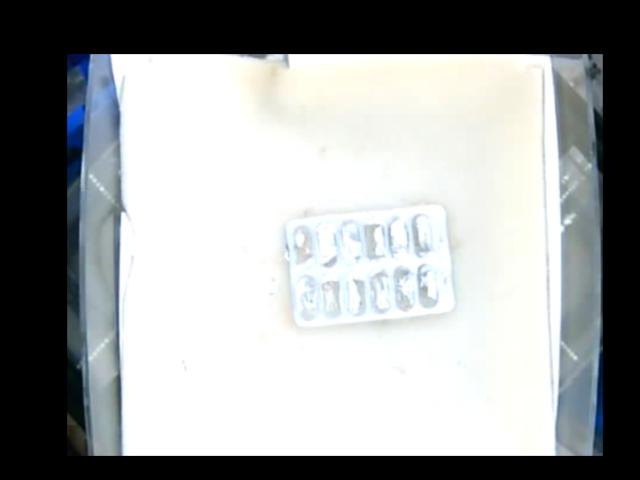Medicine: (287, 203, 453, 326)
